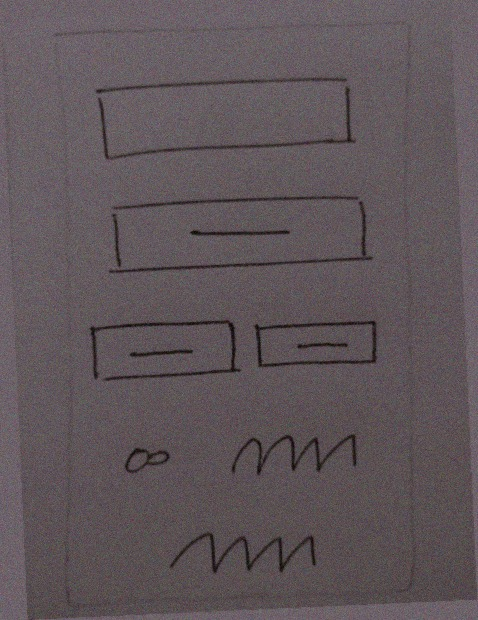button: (95, 186, 378, 282), (79, 307, 244, 390), (246, 305, 389, 378)
switch: (111, 431, 184, 482)
text: (157, 515, 327, 589), (215, 423, 368, 488)
text_input: (88, 66, 364, 171)
